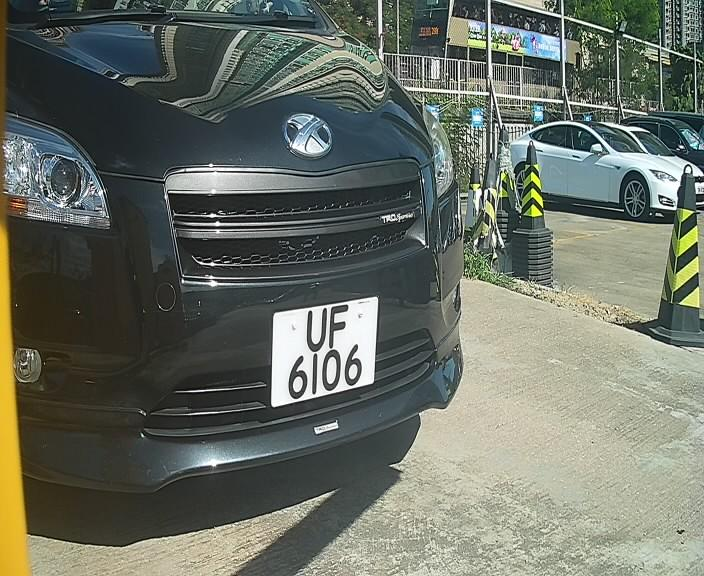License Plate: (265, 291, 378, 420)
